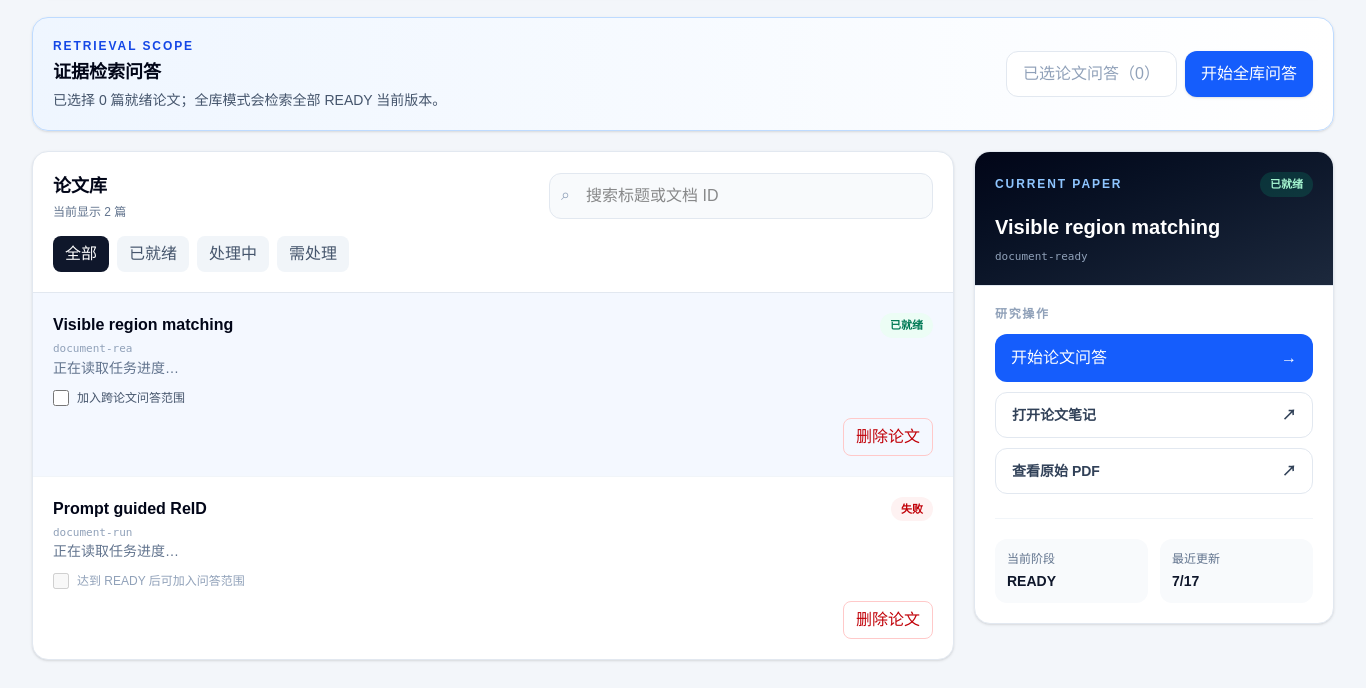
Test: deletes failed papers and clears the inspector when the library becomes empty
(page scrolled)
Expected: the element named "Prompt guided ReID 论文" is shown, top-left (33, 476), bottom-right (953, 659)
What coordinates should you click on to do the following:
click the button with aria-label "删除 Prompt guided ReID"
I would click on:
 (888, 620)
Its box is top-left (843, 601), bottom-right (933, 639).
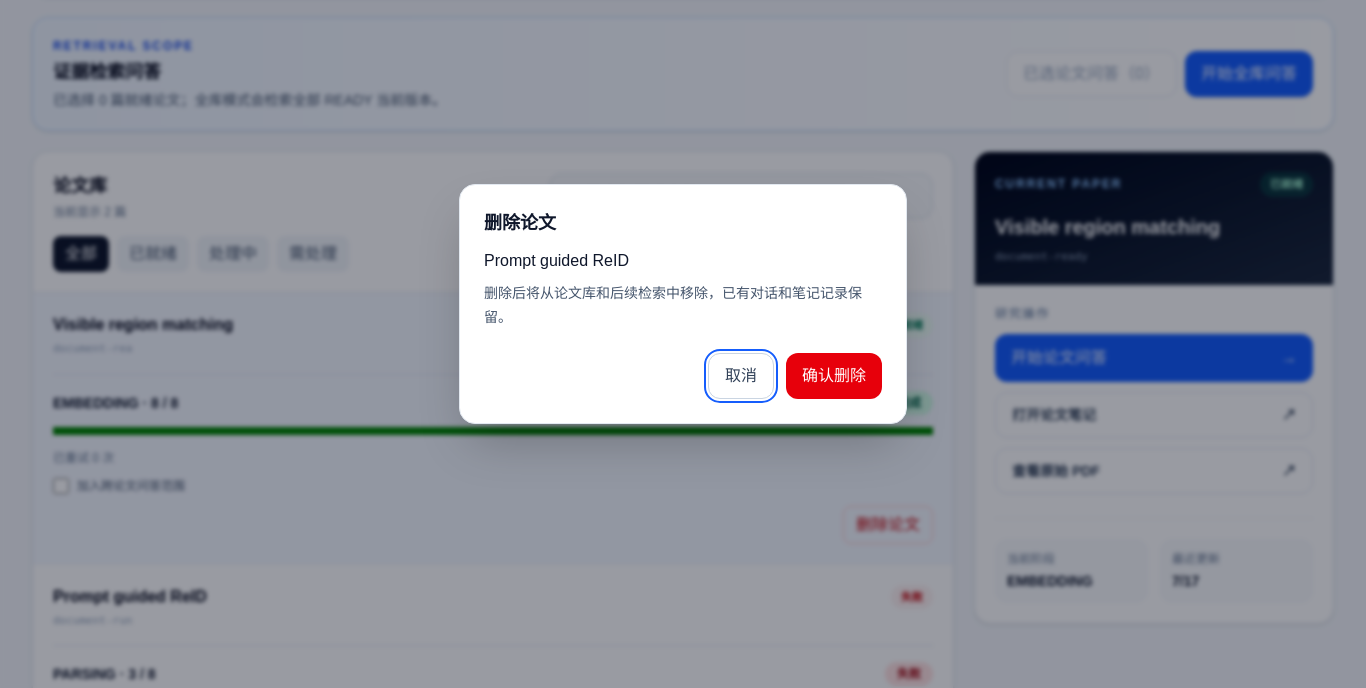
What coordinates should you click on to do the following:
click the button "确认删除"
I would click on:
 (834, 376)
Its box is top-left (786, 353), bottom-right (882, 399).
(page scrolled)
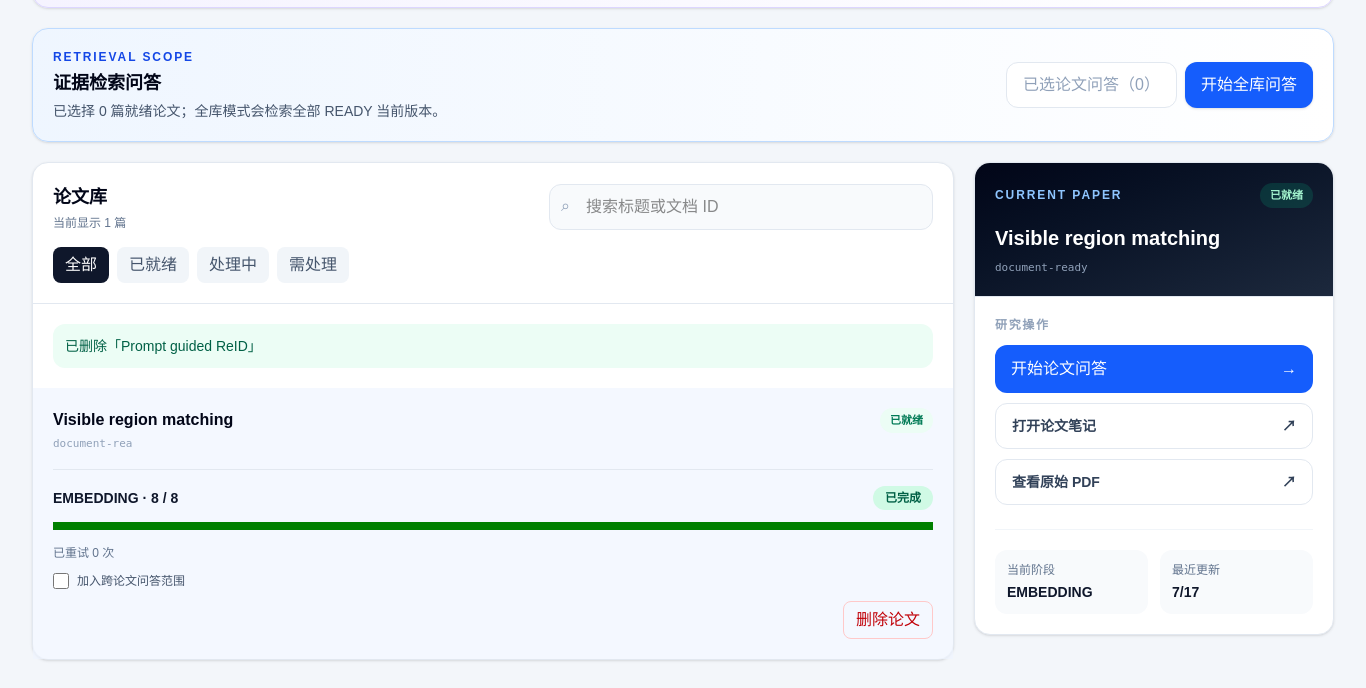
What coordinates should you click on to do the following:
click the button with aria-label "删除 Visible region matching"
I would click on:
 (888, 620)
Its box is top-left (843, 600), bottom-right (933, 638).
(page scrolled)
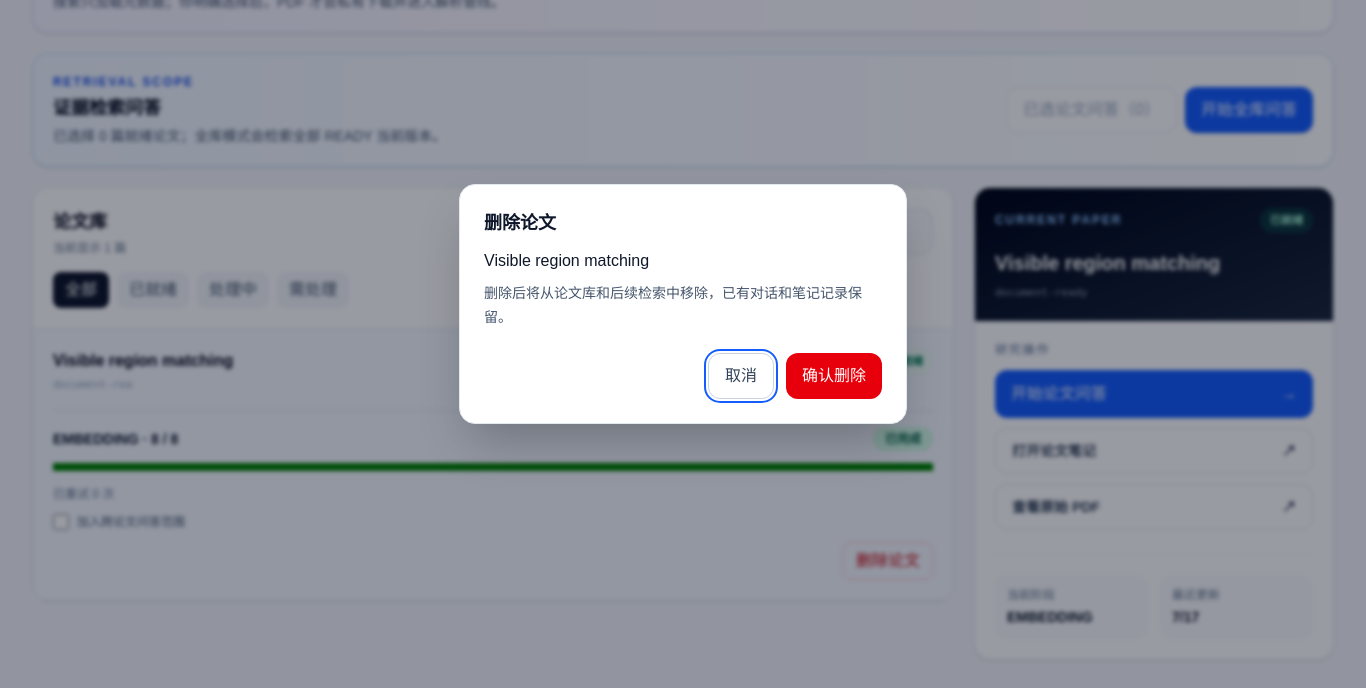
What coordinates should you click on to do the following:
click the button "确认删除"
I would click on:
 (834, 376)
Its box is top-left (786, 353), bottom-right (882, 399).
(page scrolled)
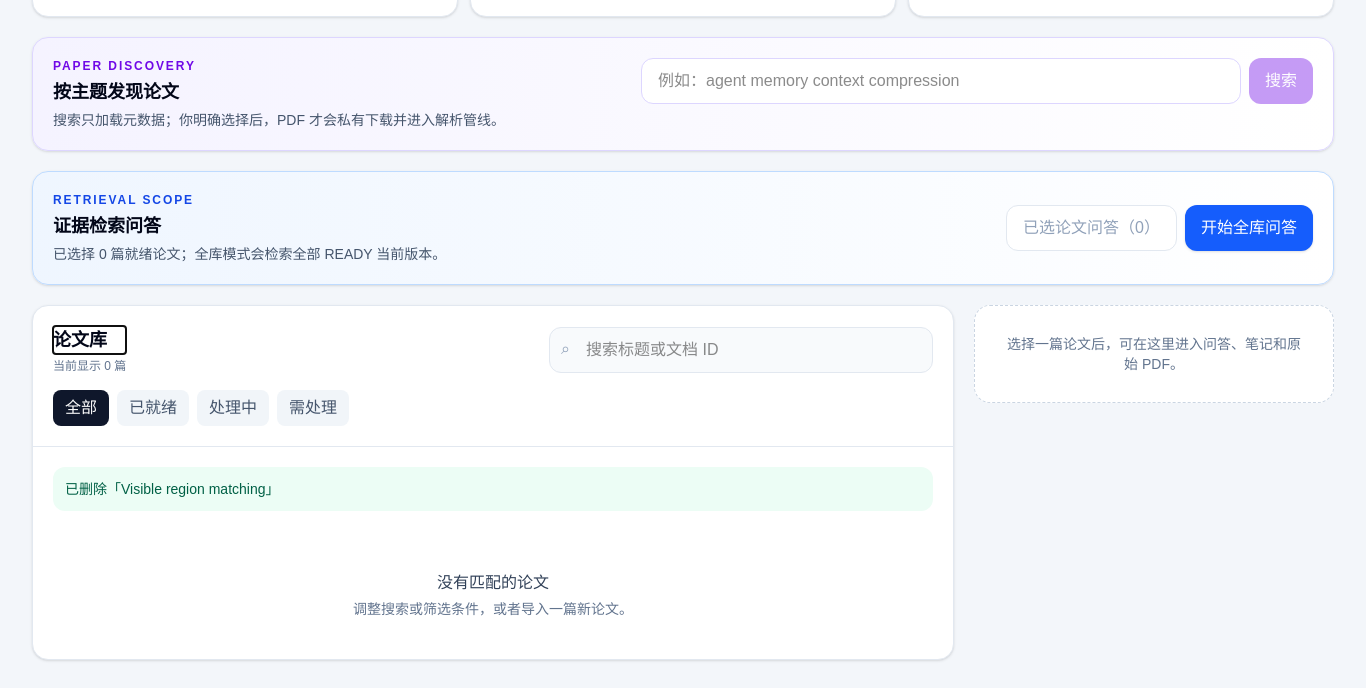
Result: the text "当前显示 0 篇" is shown at top-left (53, 358), bottom-right (126, 374)
Result: the text named "当前论文" shows "选择一篇论文后" at top-left (1007, 336), bottom-right (1301, 372)
